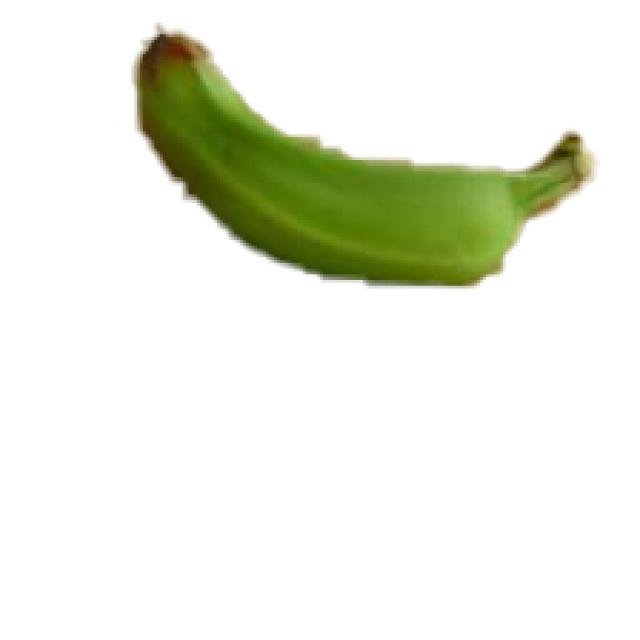fresh-banana: (129, 23, 594, 286)
